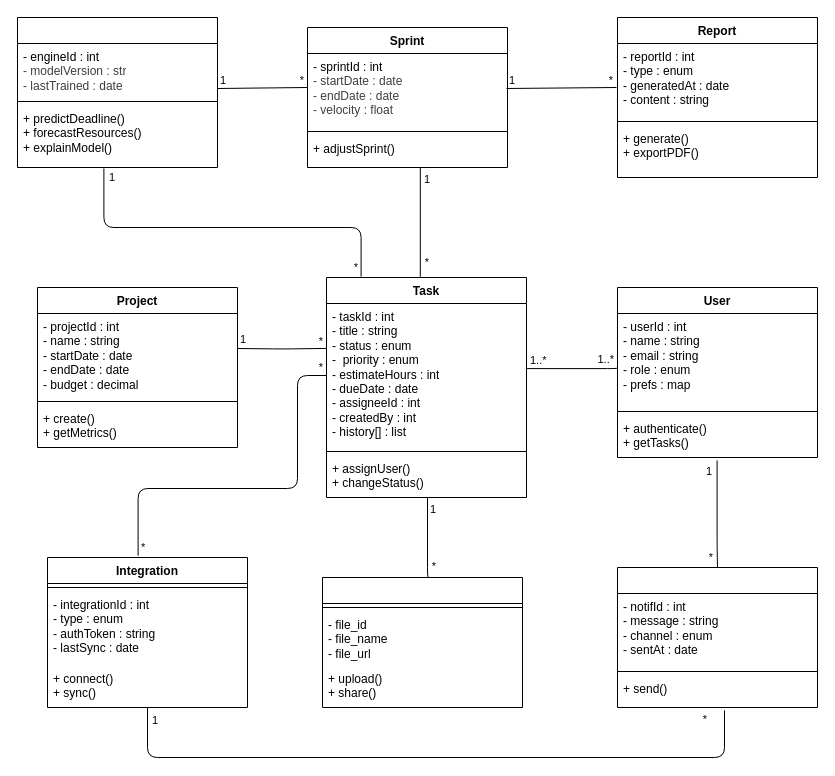
Image size: 835x776. Some labels were removed from this diagram. The shapes that lost their labels are listed below. From the top down, each one's box as (x1, y1, x2, y2) in pixels, then its label:
(16, 16, 218, 168): AI engine
(322, 576, 522, 708): FileAttachment
(616, 566, 818, 708): Notification
